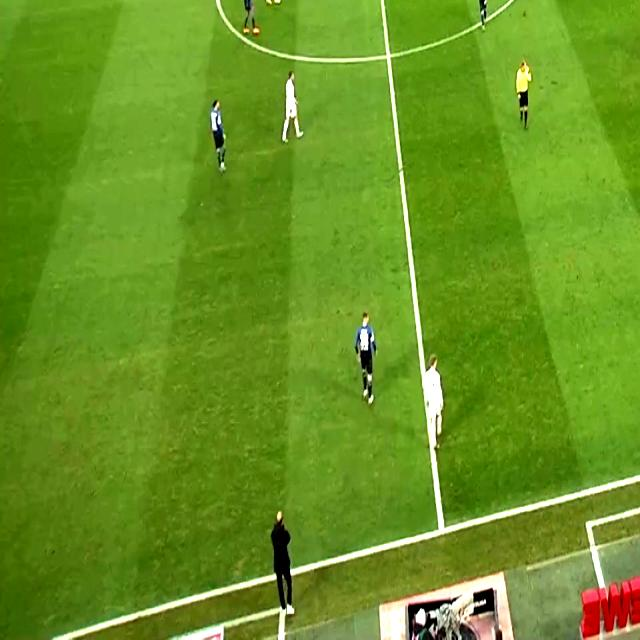referee: (513, 52, 545, 131)
soccer-player: (344, 306, 386, 411), (414, 340, 452, 456), (202, 93, 237, 177), (275, 68, 309, 151), (232, 0, 260, 40), (471, 0, 496, 34), (261, 0, 285, 8), (638, 0, 640, 76)
